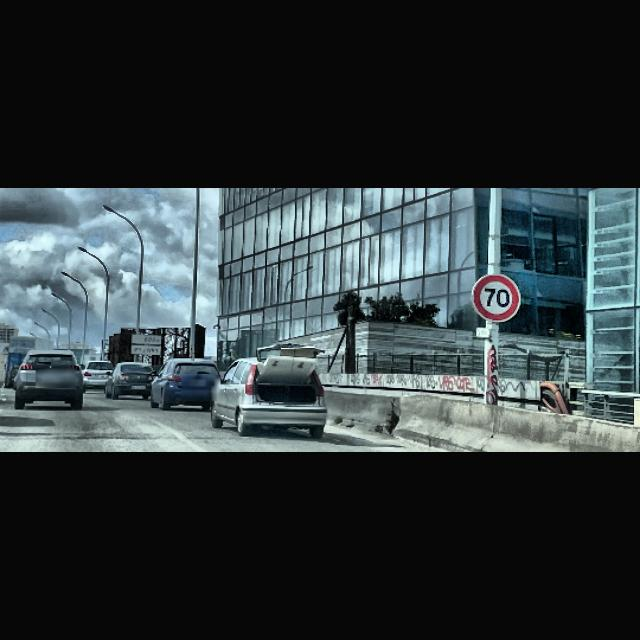speed_70: (471, 272, 521, 324)
